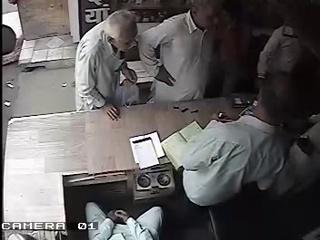Normal: (181, 63, 320, 239), (138, 1, 226, 104), (74, 9, 140, 122), (85, 202, 164, 239)
